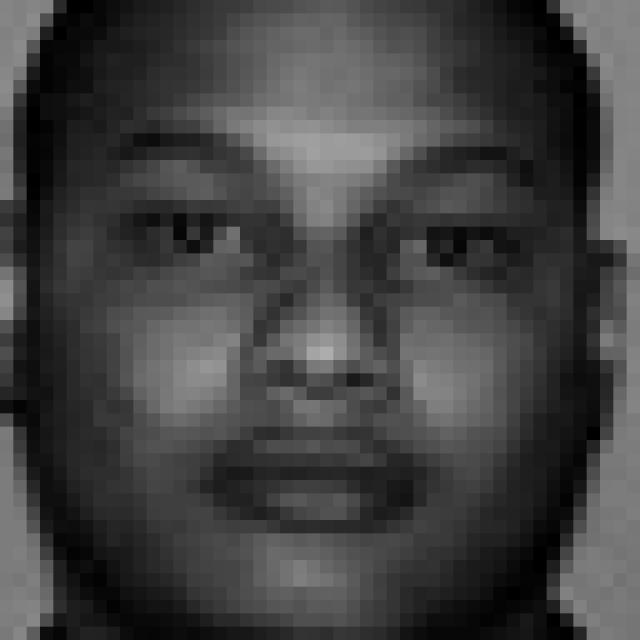neutral: (104, 115, 546, 546)
